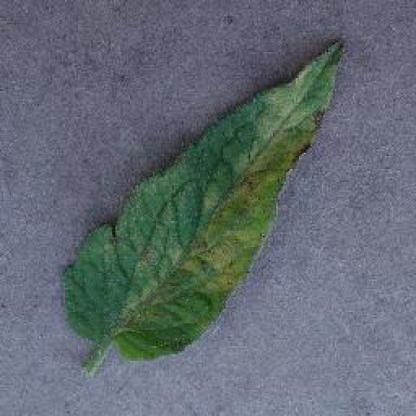Tomato_Leaf_Mold: (66, 40, 340, 350)
